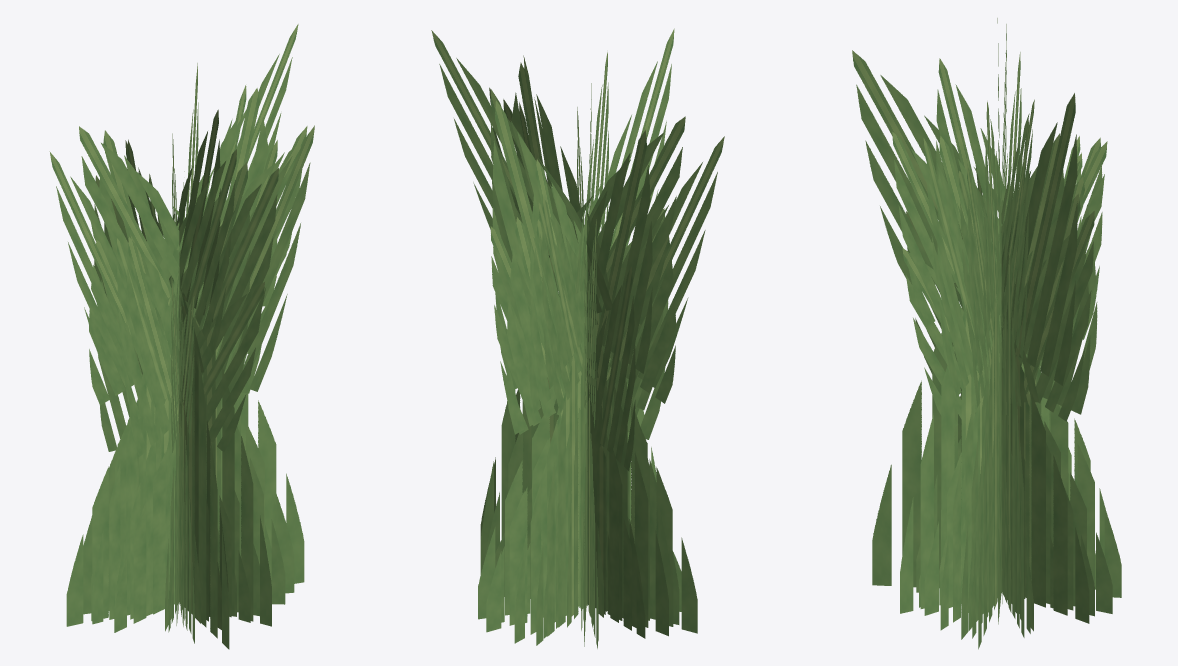
The picture shows the model from 3 angles, left to right: view 1: azimuth 30°, elevation 25°; view 2: azimuth 150°, elevation 25°; view 3: azimuth 270°, elevation 25°; orthographic projection. The views are drawn at different scales.
Parts seen in each view (by area): view 1: 풀_03; view 2: 풀_03; view 3: 풀_03.
Boxes of the visible parts, <box> form: 풀_03: <box>49,24,314,649</box>; 풀_03: <box>431,28,724,648</box>; 풀_03: <box>852,18,1121,649</box>.
Bounding box in the file's own units: 655 × 1026 × 594.
1 material, 1 textured.
